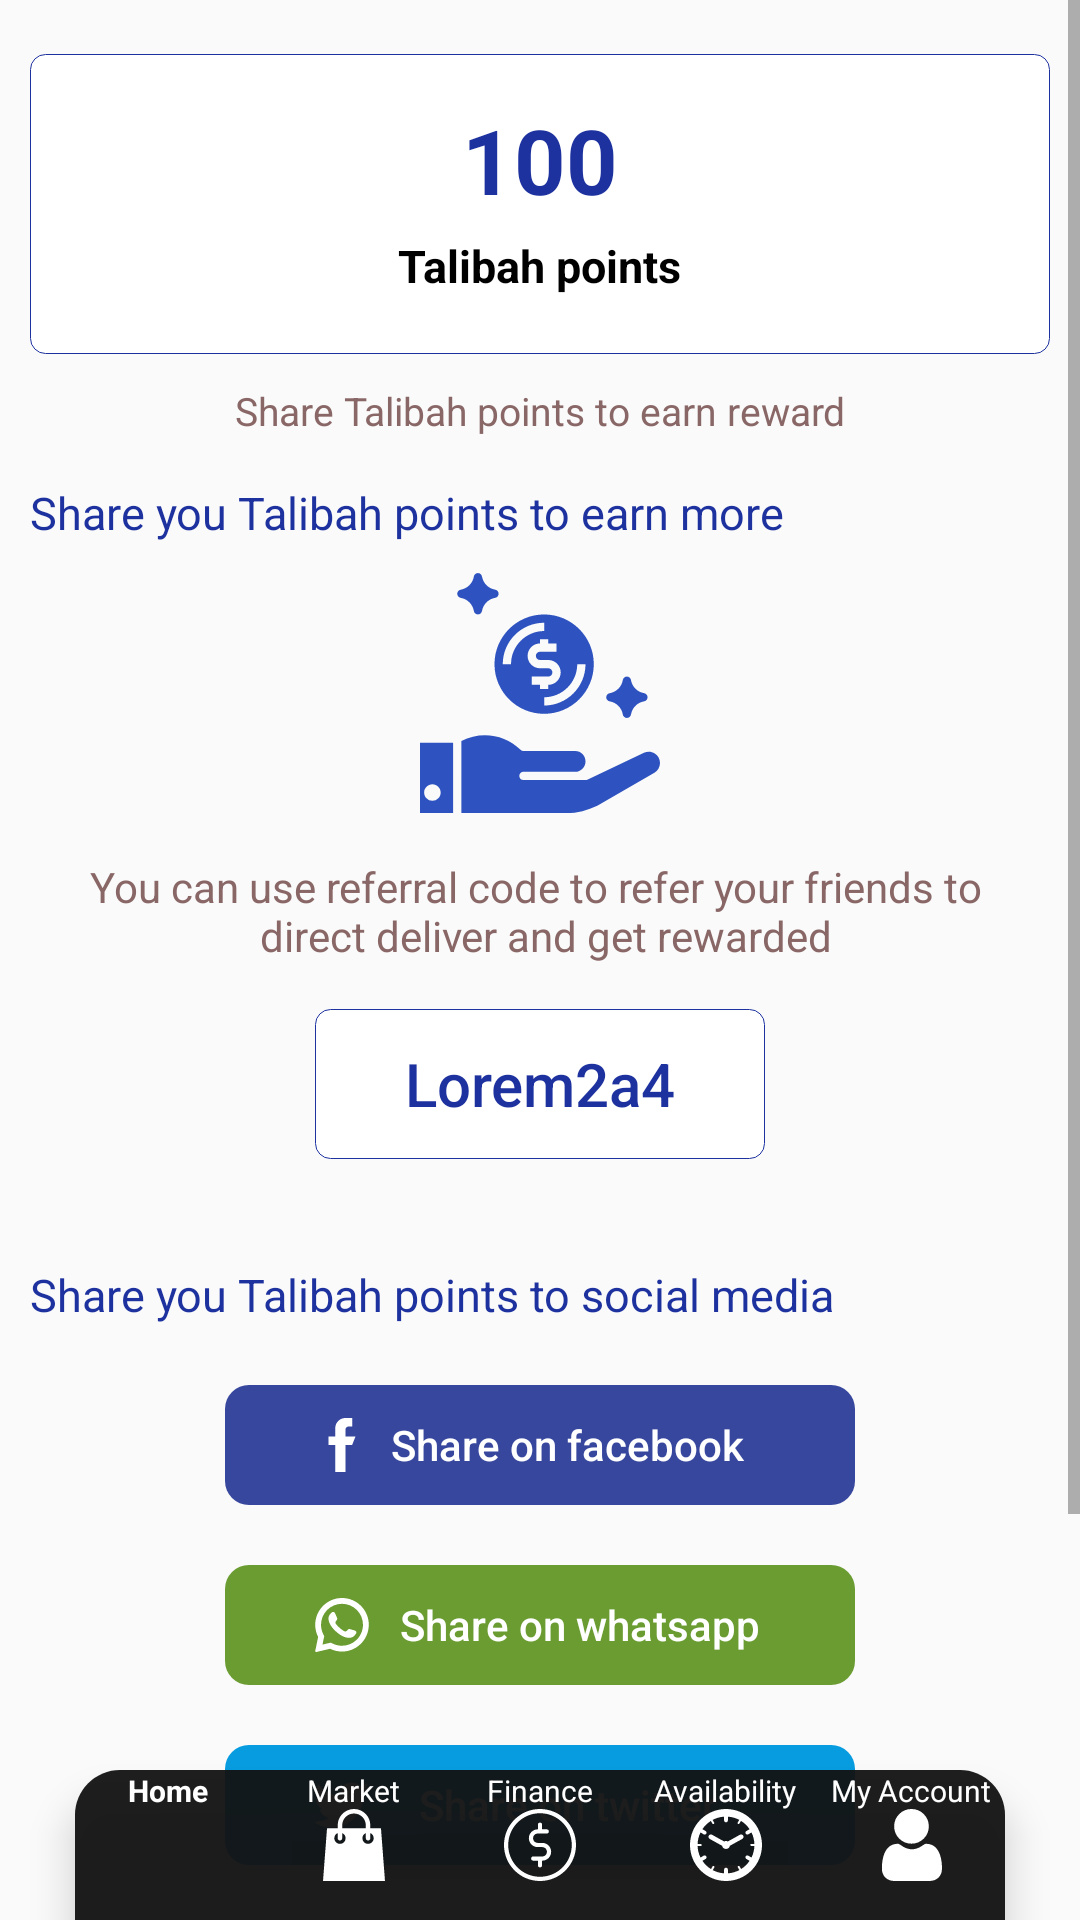

Locate icon controls on the screen. Image size 1080 x 1920, boxes as [x1, y1, x2, y2].
profit: [420, 573, 660, 813]
